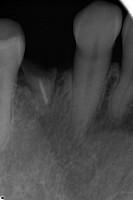Furcation Involvement: (119, 106, 133, 135)
